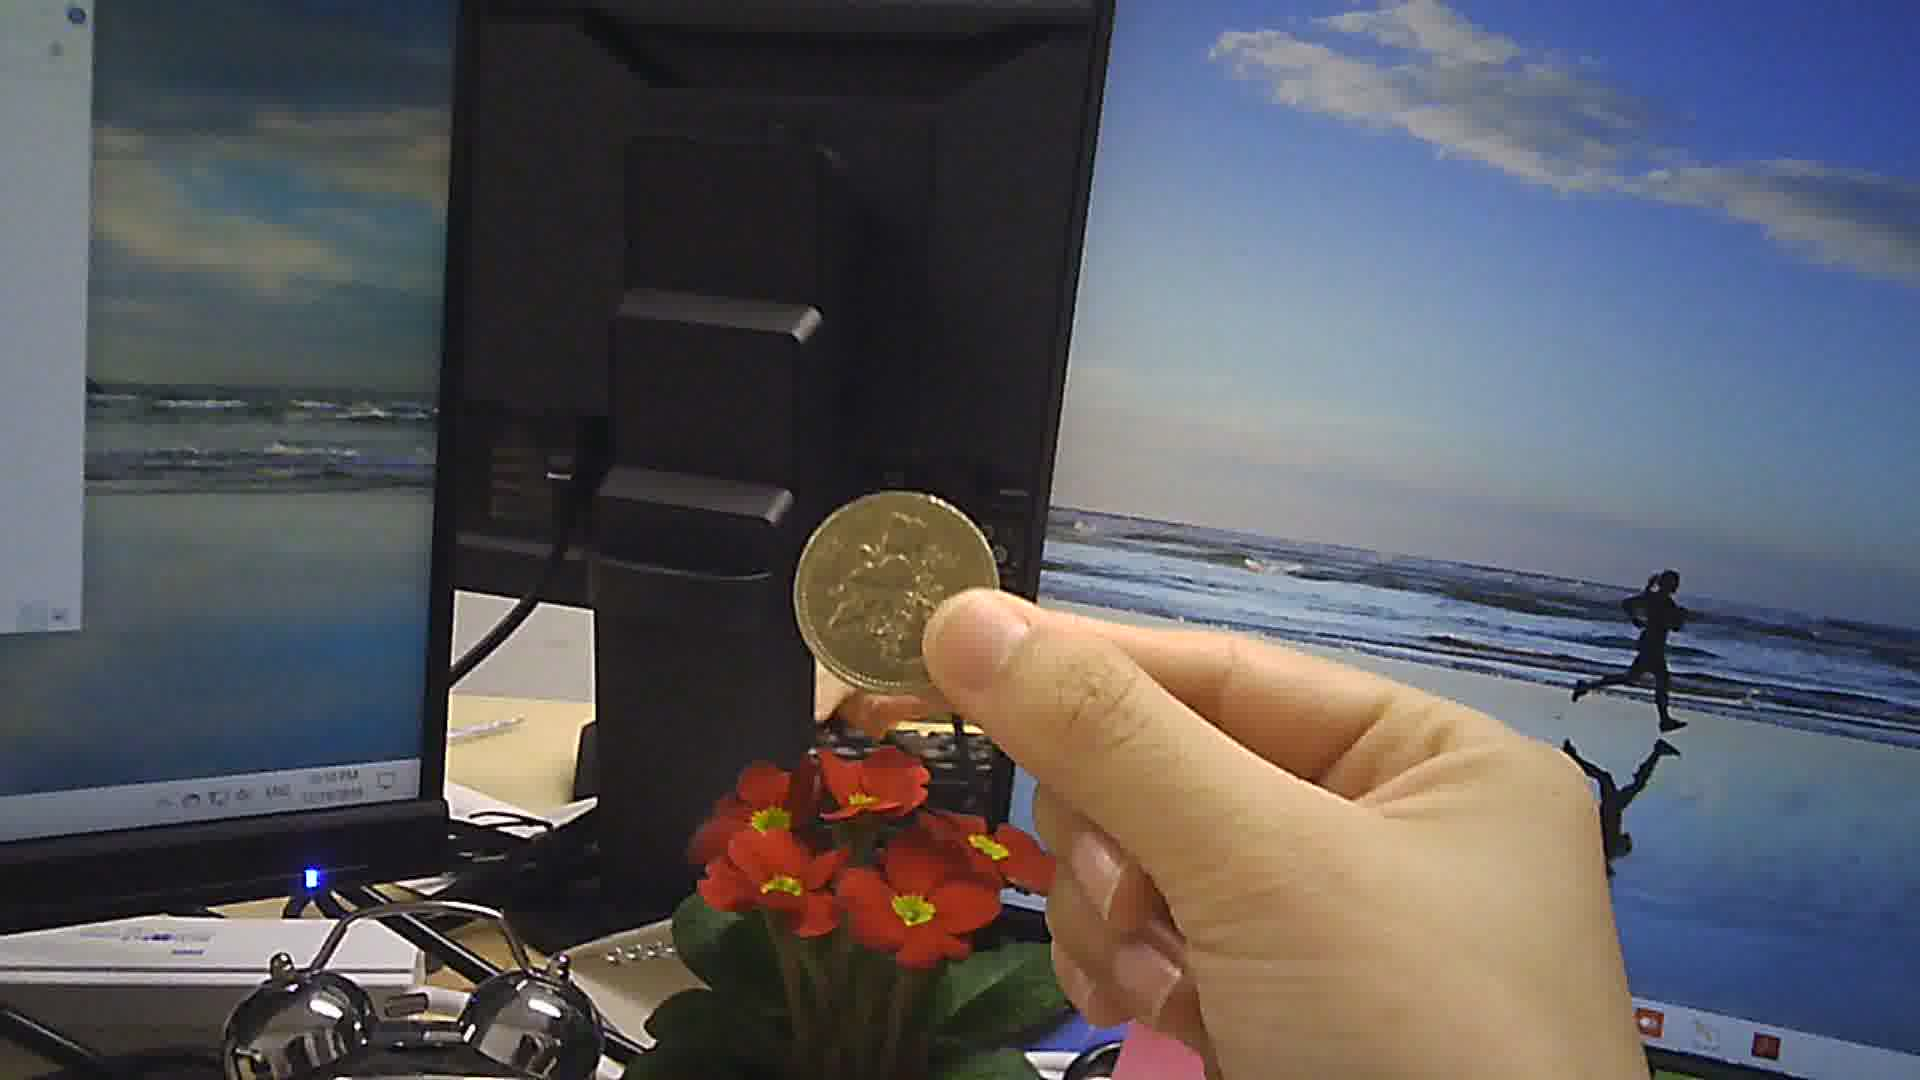500 Yen: (790, 483, 1011, 695)
